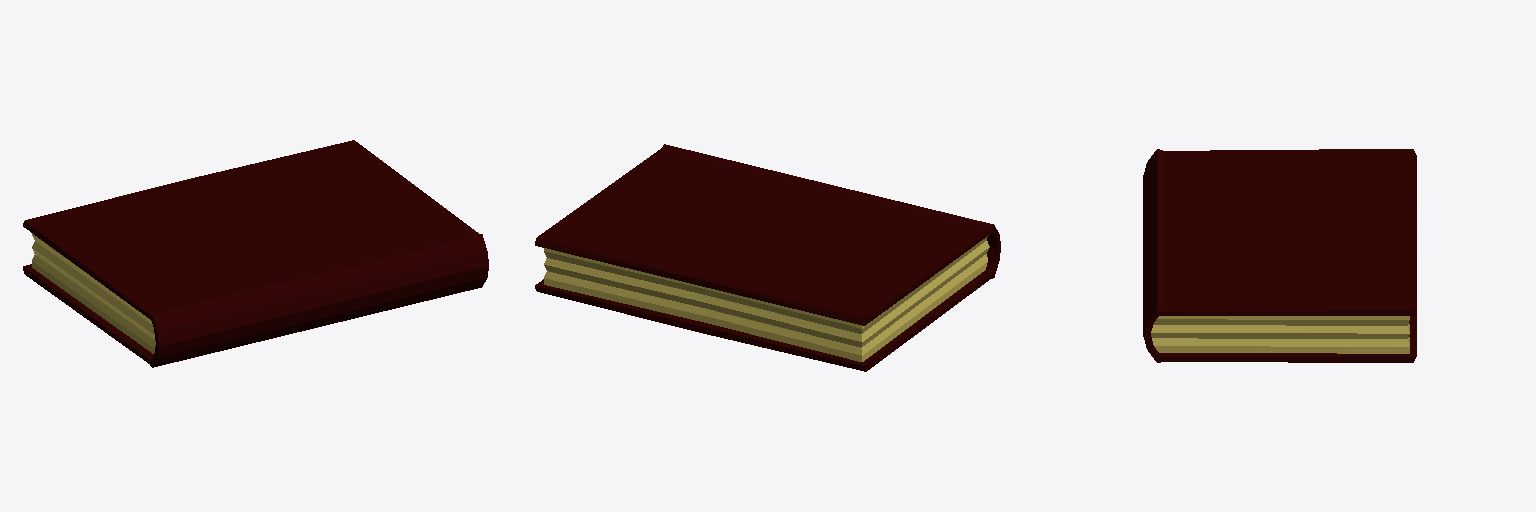
The model's file is Book_Obstacle.obj.
3 views of the same model, side by side, from view 1: azimuth 30°, elevation 25°; view 2: azimuth 150°, elevation 25°; view 3: azimuth 270°, elevation 25° (orthographic).
Visible parts, largest first — view 1: Cube; view 2: Cube; view 3: Cube.
Boxes of the visible parts, x1,y1,x2,y2 form: Cube: [23, 140, 488, 367]; Cube: [535, 144, 1000, 371]; Cube: [1143, 149, 1416, 362].
Bounding box in the file's own units: 2.71 × 0.4212 × 1.94.